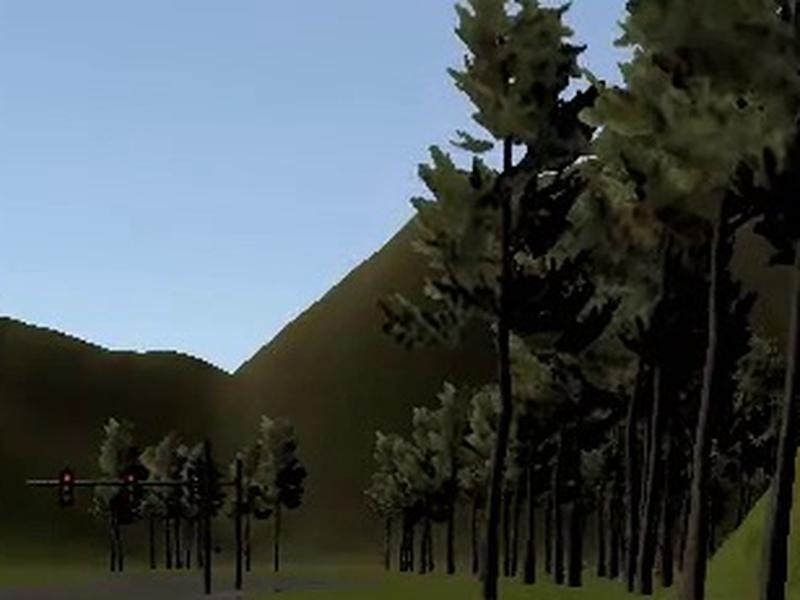Red: (59, 468, 75, 508), (121, 471, 137, 507)
